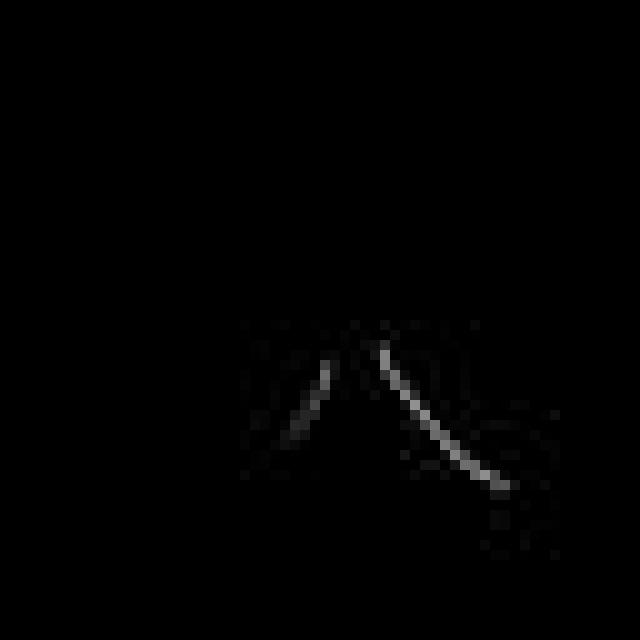8 -eight-: (270, 322, 522, 506)
